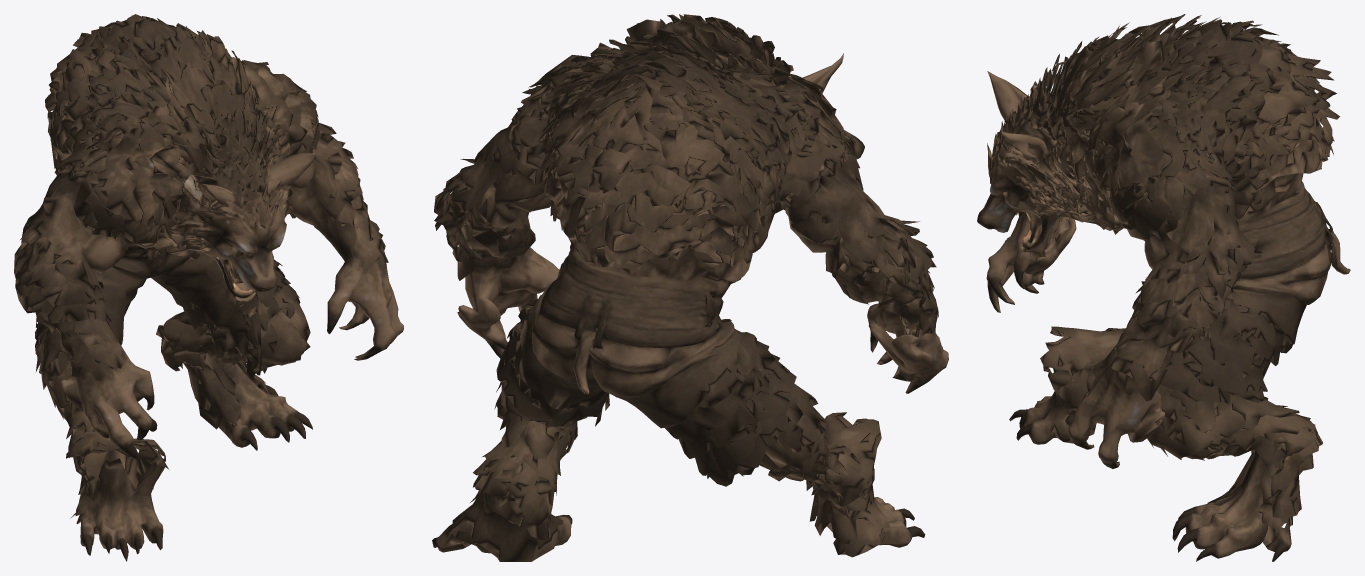
The model's file is оборотень.glb.
The picture shows the model from 3 angles, left to right: view 1: azimuth 30°, elevation 25°; view 2: azimuth 150°, elevation 25°; view 3: azimuth 270°, elevation 25°; orthographic projection. The views are drawn at different scales.
Visible parts, largest first — view 1: geometry_0; view 2: geometry_0; view 3: geometry_0.
Part boxes in pixels (x1=…): geometry_0: x1=14, y1=14, x2=403, y2=561; geometry_0: x1=432, y1=14, x2=948, y2=561; geometry_0: x1=977, y1=14, x2=1350, y2=561.
Size of the model in its own units: 0.9054 by 1 by 0.7334.
1 material, 1 textured.
